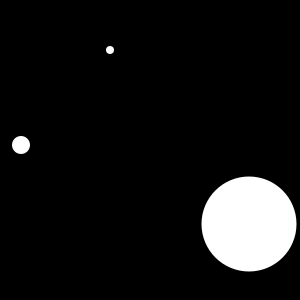rectangle: (202, 176, 296, 272), (12, 136, 30, 154), (106, 46, 114, 54)
